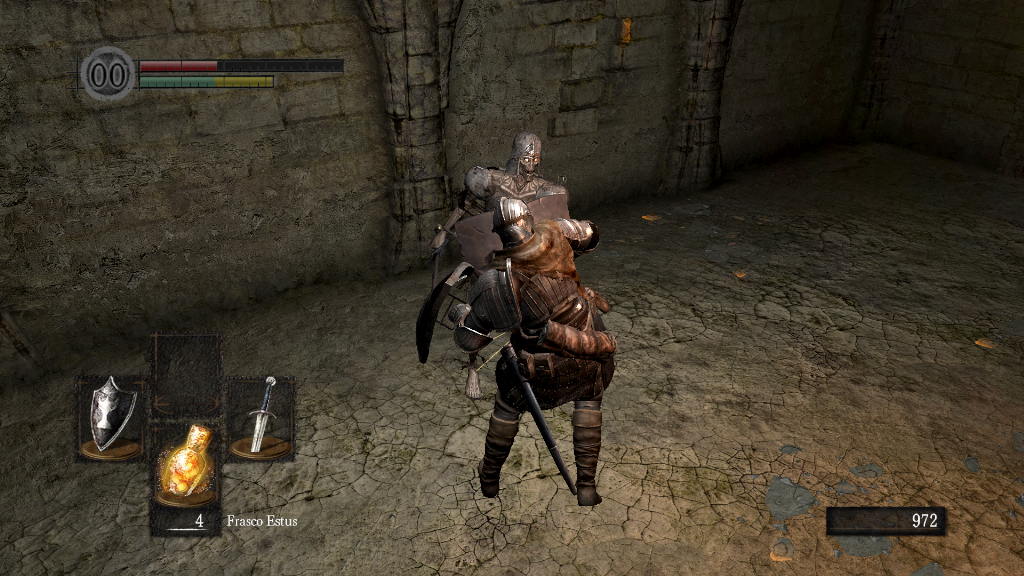health: (138, 58, 343, 71)
humanity: (80, 45, 136, 102)
player: (417, 197, 624, 507)
souls: (825, 506, 945, 536)
stamina: (138, 74, 274, 88)
undeadSoldier: (449, 133, 572, 403)
